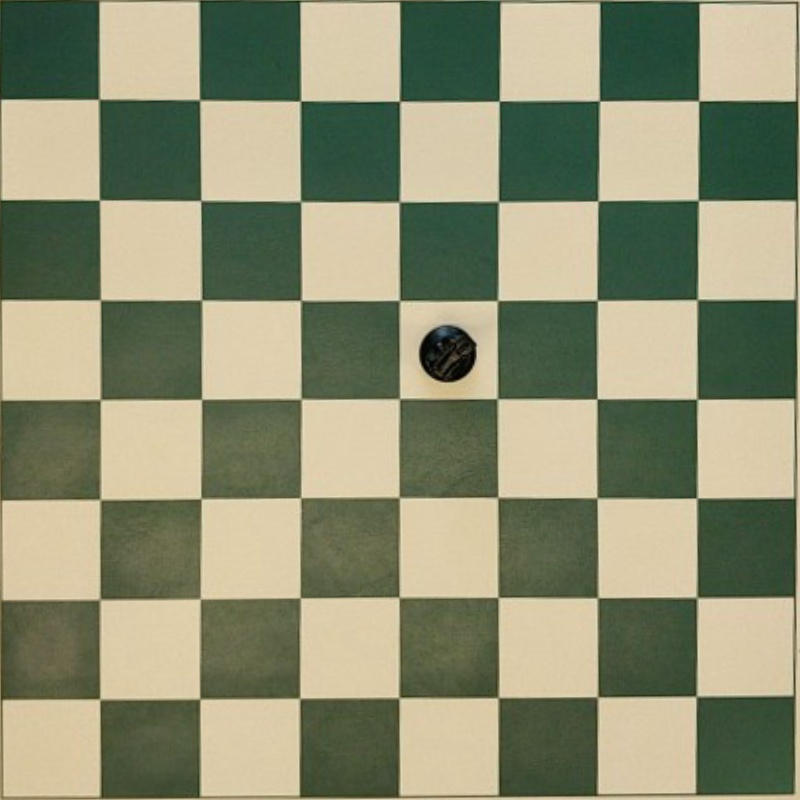black-knight: (418, 324, 477, 382)
